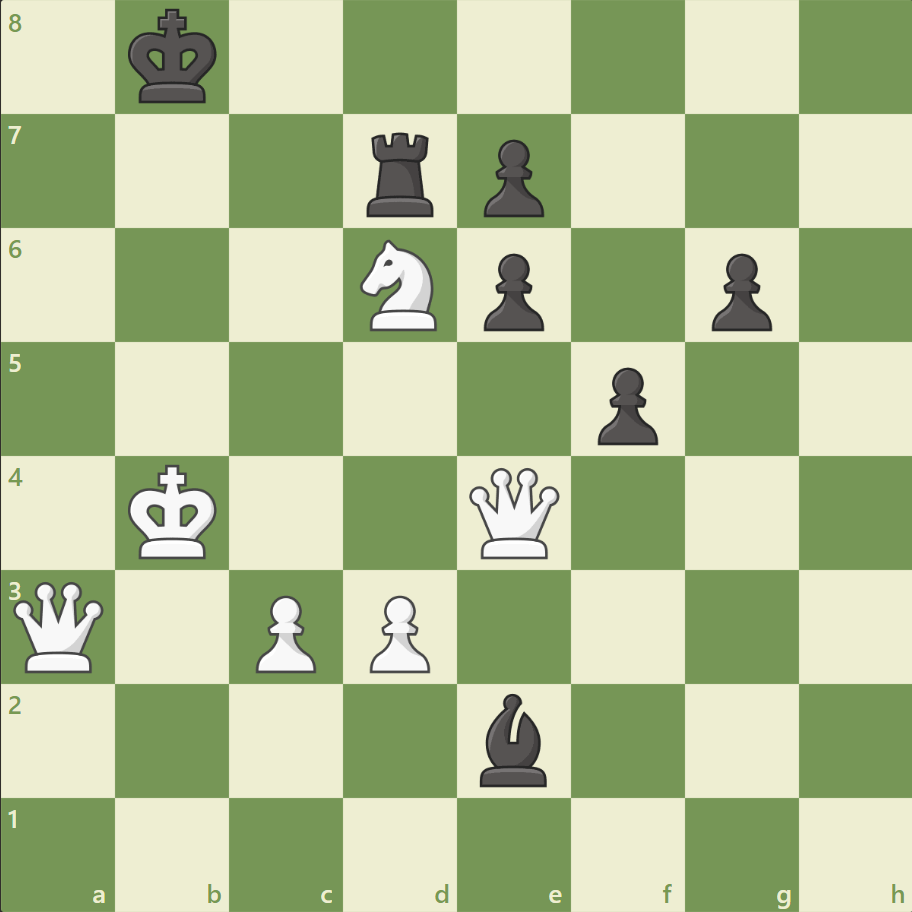K: (124, 458, 224, 566)
N: (351, 234, 449, 337)
P: (247, 586, 322, 677), (361, 586, 435, 677)
Q: (10, 576, 109, 676), (464, 463, 563, 562)
b: (471, 687, 555, 790)
k: (124, 4, 224, 112)
p: (474, 132, 549, 223), (474, 246, 549, 337), (701, 246, 776, 337), (588, 359, 662, 450)
r: (360, 125, 442, 222)
